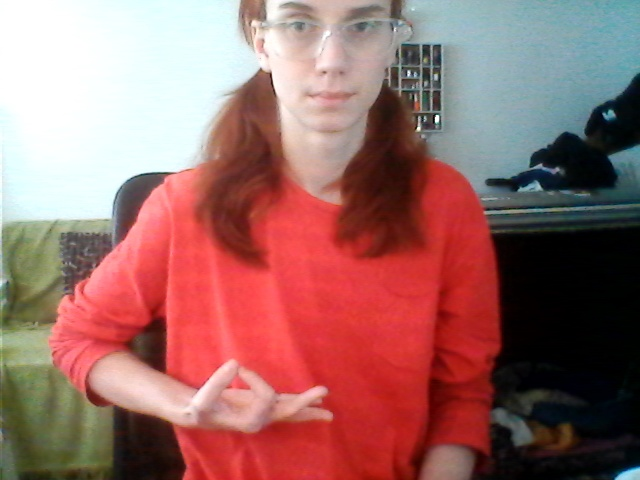co: (184, 346, 340, 446)
